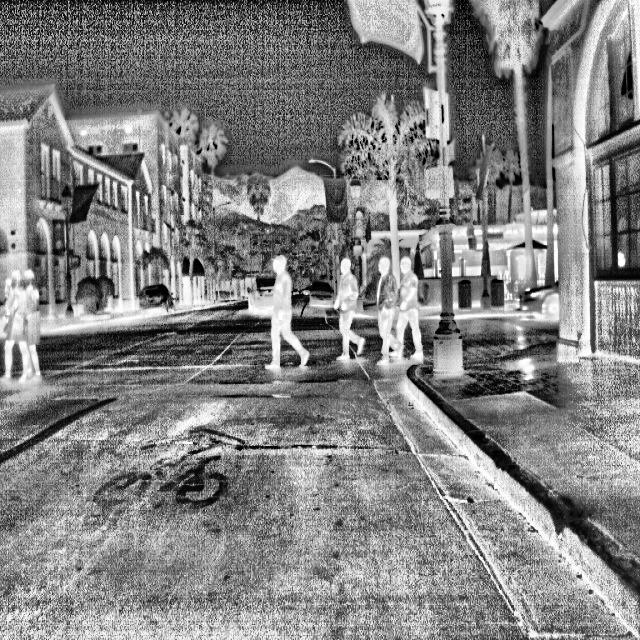car: (519, 264, 566, 324), (130, 278, 176, 324), (248, 268, 292, 315), (304, 273, 337, 312)
light: (302, 146, 344, 178), (206, 190, 238, 218)
person and bycle: (253, 241, 312, 385), (327, 244, 373, 369), (399, 248, 432, 368), (19, 266, 51, 383), (4, 267, 31, 388), (376, 244, 399, 374)
